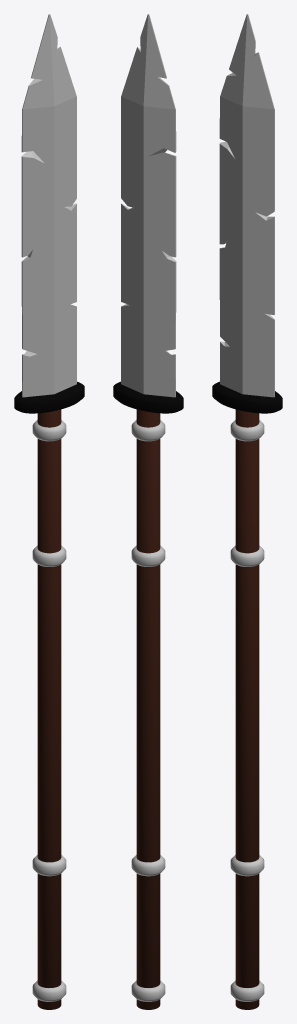
Rendered from lance.glb.
3 views of the same model, side by side, from view 1: azimuth 30°, elevation 25°; view 2: azimuth 150°, elevation 25°; view 3: azimuth 330°, elevation 25° (orthographic).
Parts seen in each view (by area): view 1: t5-lance-part-1, t5-lance-part-0, t5-lance-part-2; view 2: t5-lance-part-1, t5-lance-part-0, t5-lance-part-2; view 3: t5-lance-part-1, t5-lance-part-0, t5-lance-part-2.
Part boxes in pixels (x1,y1,x2,y2): t5-lance-part-1: (21, 14, 76, 1001); t5-lance-part-0: (37, 409, 61, 1009); t5-lance-part-2: (14, 381, 84, 413); t5-lance-part-1: (121, 14, 176, 1001); t5-lance-part-0: (136, 409, 160, 1009); t5-lance-part-2: (113, 381, 183, 413); t5-lance-part-1: (219, 14, 274, 1001); t5-lance-part-0: (235, 409, 259, 1009); t5-lance-part-2: (212, 381, 282, 413).
Bounding box in the file's own units: 0.2218 × 3.1 × 0.1109.
